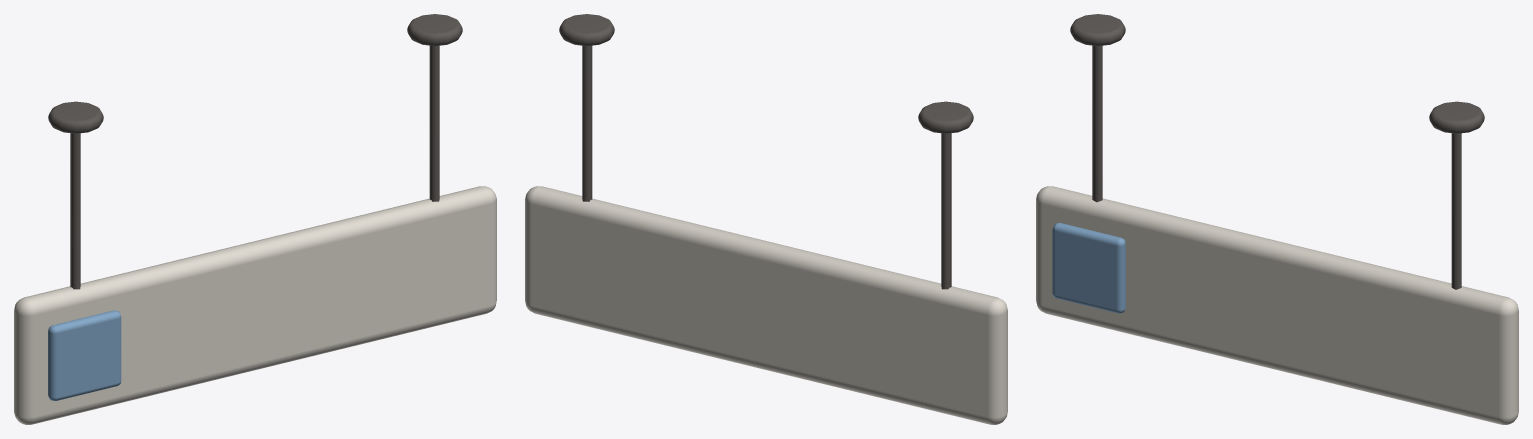
The model's file is hanging_guide_board.glb.
3 renders of one model, left to right at view 1: azimuth 30°, elevation 25°; view 2: azimuth 150°, elevation 25°; view 3: azimuth 330°, elevation 25°, orthographic.
Parts seen in each view (by area): view 1: hanging_guide_board_mesh; view 2: hanging_guide_board_mesh; view 3: hanging_guide_board_mesh.
Boxes of the visible parts, x1,y1,x2,y2 form: hanging_guide_board_mesh: (14, 14, 496, 424); hanging_guide_board_mesh: (525, 14, 1007, 424); hanging_guide_board_mesh: (1036, 14, 1518, 424).
Bounding box in the file's own units: 0.8 × 0.48 × 0.08.
